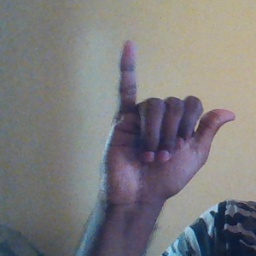J: (92, 37, 236, 204)
